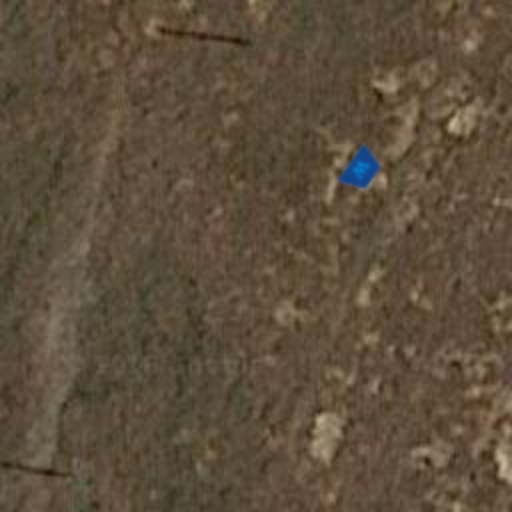trapezoid: (328, 136, 396, 204)
